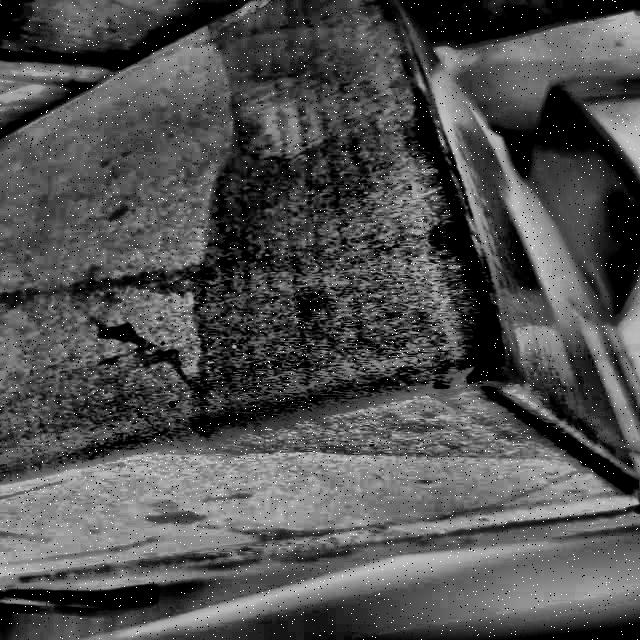box: (2, 1, 639, 604)
wet: (191, 0, 527, 466)
